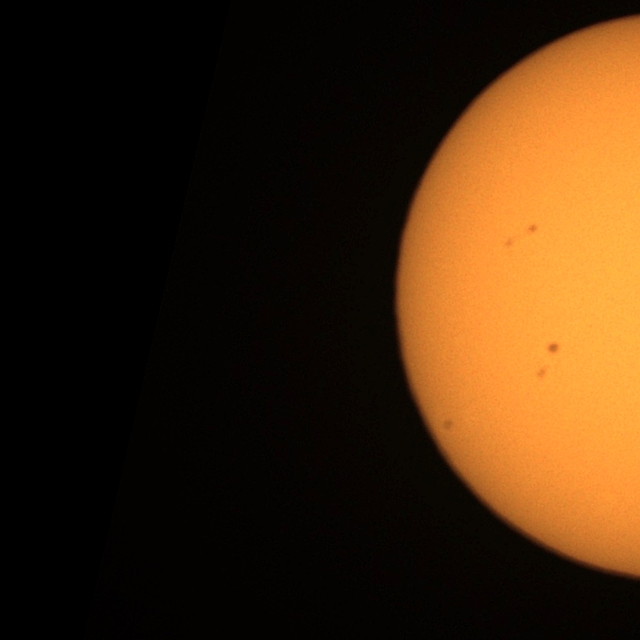sunspot: (546, 341, 560, 355), (441, 418, 454, 433), (536, 367, 548, 380), (526, 223, 538, 235)
